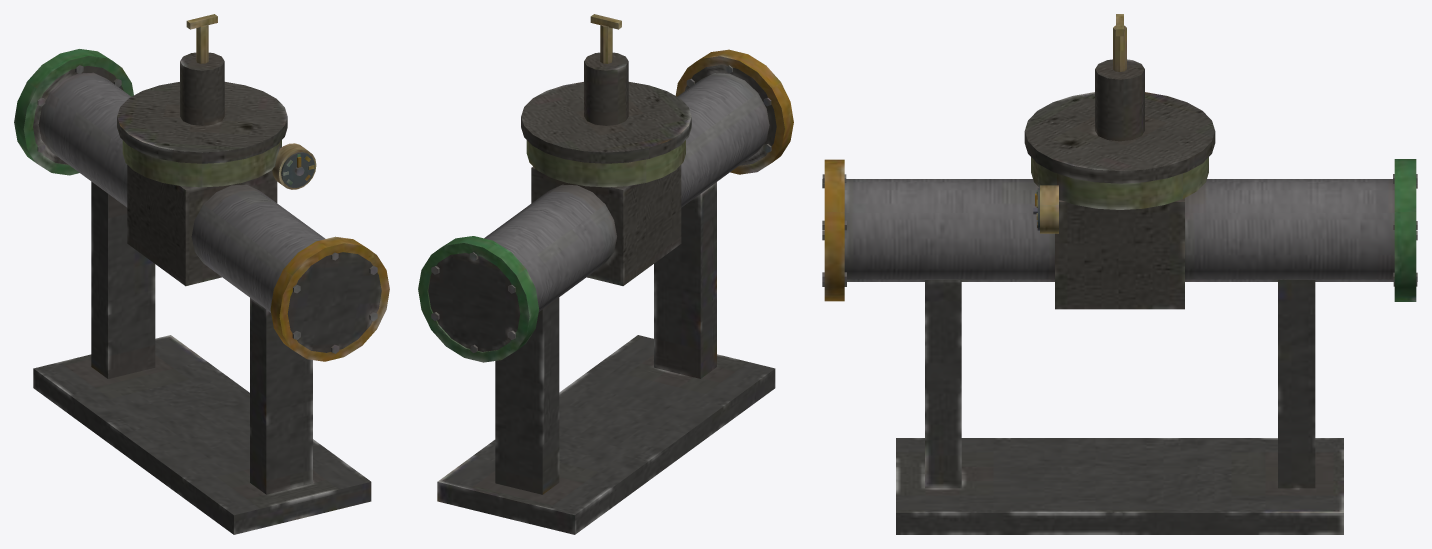
The model's file is feValveRegulator.glb.
3 renders of one model, left to right at view 1: azimuth 30°, elevation 25°; view 2: azimuth 150°, elevation 25°; view 3: azimuth 270°, elevation 25°, orthographic. The views are drawn at different scales.
Parts seen in each view (by area): view 1: feValveRegulator_Base; view 2: feValveRegulator_Base; view 3: feValveRegulator_Base.
Boxes of the visible parts, x1,y1,x2,y2 form: feValveRegulator_Base: [14, 14, 389, 534]; feValveRegulator_Base: [418, 14, 793, 534]; feValveRegulator_Base: [822, 14, 1417, 534].
Size of the model in its own units: 0.333 by 0.8922 by 1.01.
Materials: 1 (1 with a texture image).
